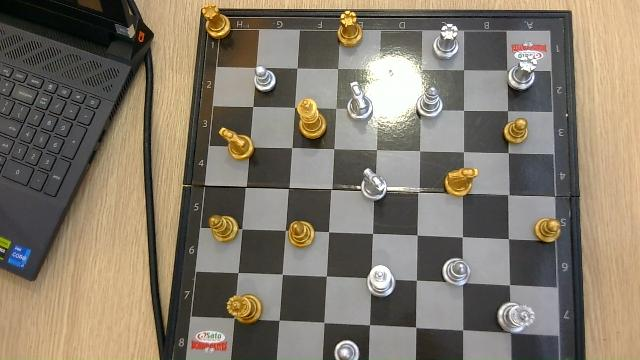black_bishop: (206, 214, 240, 243), (286, 220, 316, 249)
black_king: (297, 96, 326, 138)
black_knight: (218, 125, 255, 161), (443, 167, 479, 198)
black_pawn: (533, 217, 563, 244), (503, 117, 530, 145)
black_queen: (226, 293, 265, 325)
black_rook: (200, 4, 231, 39), (337, 11, 365, 48)
white_bishop: (415, 86, 445, 118), (443, 256, 471, 286)
white_king: (366, 264, 397, 299)
white_knight: (346, 81, 375, 120), (360, 167, 389, 202)
white_pawn: (252, 65, 278, 94), (332, 339, 362, 360)
white_queen: (498, 301, 535, 333)
white_rook: (508, 51, 543, 92), (434, 23, 461, 60)
